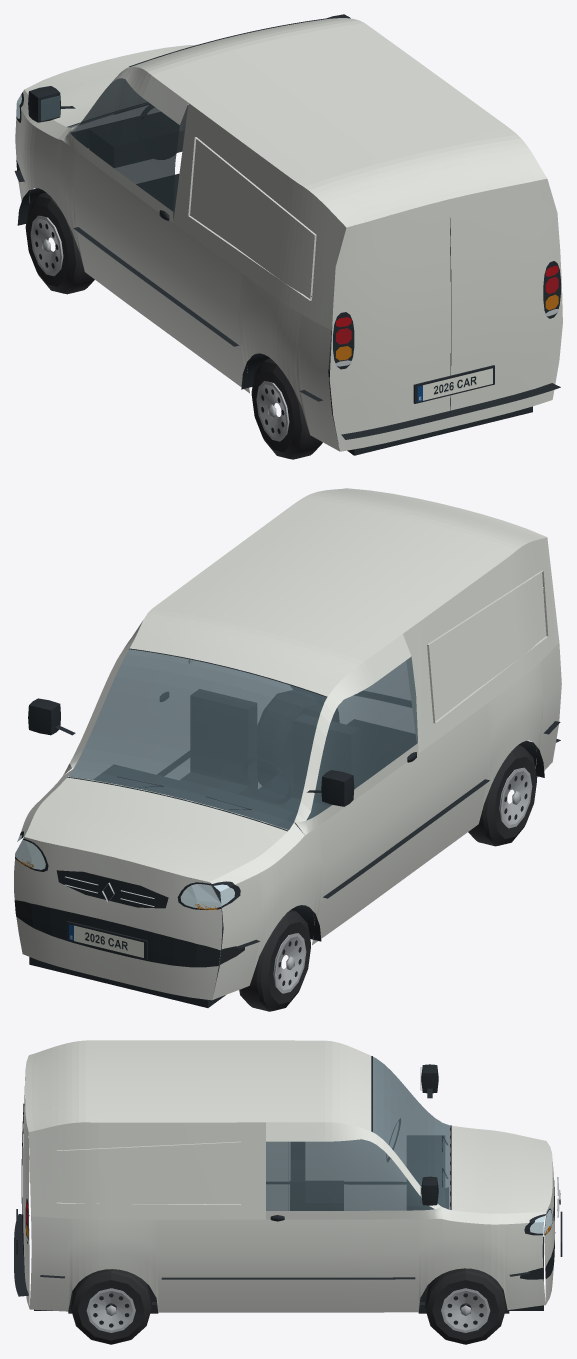
The model's file is Entrega_21_LOD1.glb.
3 views of the same model, one above another, from view 1: azimuth 30°, elevation 25°; view 2: azimuth 150°, elevation 25°; view 3: azimuth 270°, elevation 25° (orthographic). The views are drawn at different scales.
Parts seen in each view (by area): view 1: Body, Glass, Wheel_FL, Wheel_RL, Interior, Plates; view 2: Body, Glass, Interior, Wheel_FL, Wheel_RL, Wheel_RR, Headlights, Plates; view 3: Body, Glass, Wheel_FR, Wheel_RR, Interior.
Part boxes in pixels (x1,y1,x2,y2): Body: [14, 14, 562, 455]; Glass: [40, 78, 179, 211]; Wheel_FL: [25, 192, 94, 294]; Wheel_RL: [251, 358, 322, 459]; Interior: [90, 105, 188, 167]; Plates: [417, 368, 492, 401]; Body: [14, 488, 561, 1007]; Glass: [68, 649, 417, 829]; Interior: [94, 689, 359, 834]; Wheel_FL: [239, 910, 310, 1011]; Wheel_RL: [468, 745, 536, 846]; Wheel_RR: [258, 690, 321, 785]; Headlights: [15, 835, 234, 908]; Plates: [69, 924, 143, 957]; Body: [14, 1040, 562, 1313]; Glass: [266, 1057, 449, 1210]; Wheel_FR: [425, 1268, 506, 1344]; Wheel_RR: [70, 1269, 151, 1344]; Interior: [290, 1119, 444, 1210].
Size of the model in its own units: 2.12 by 1.81 by 4.03.
13 materials, 1 textured.
